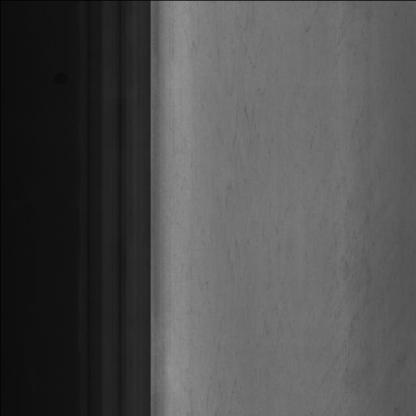silk_spot: (218, 63, 266, 270)
